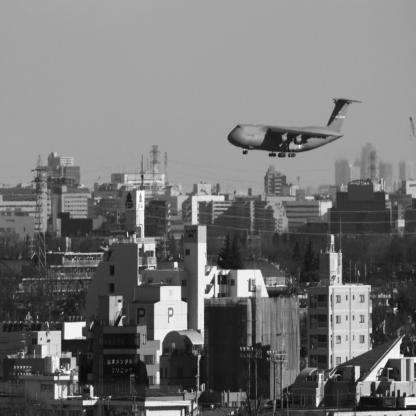C5: (228, 98, 364, 159)
